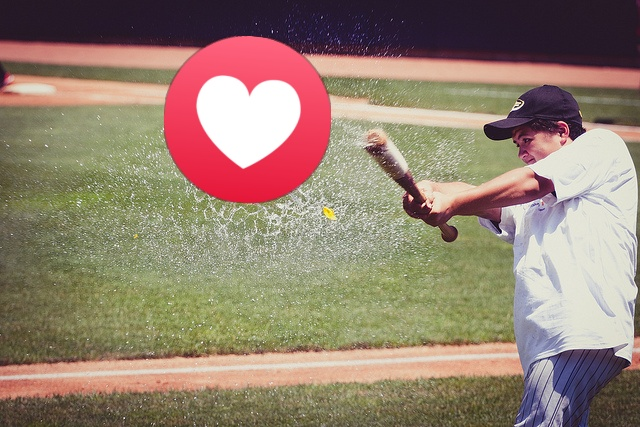love: (164, 36, 331, 203)
